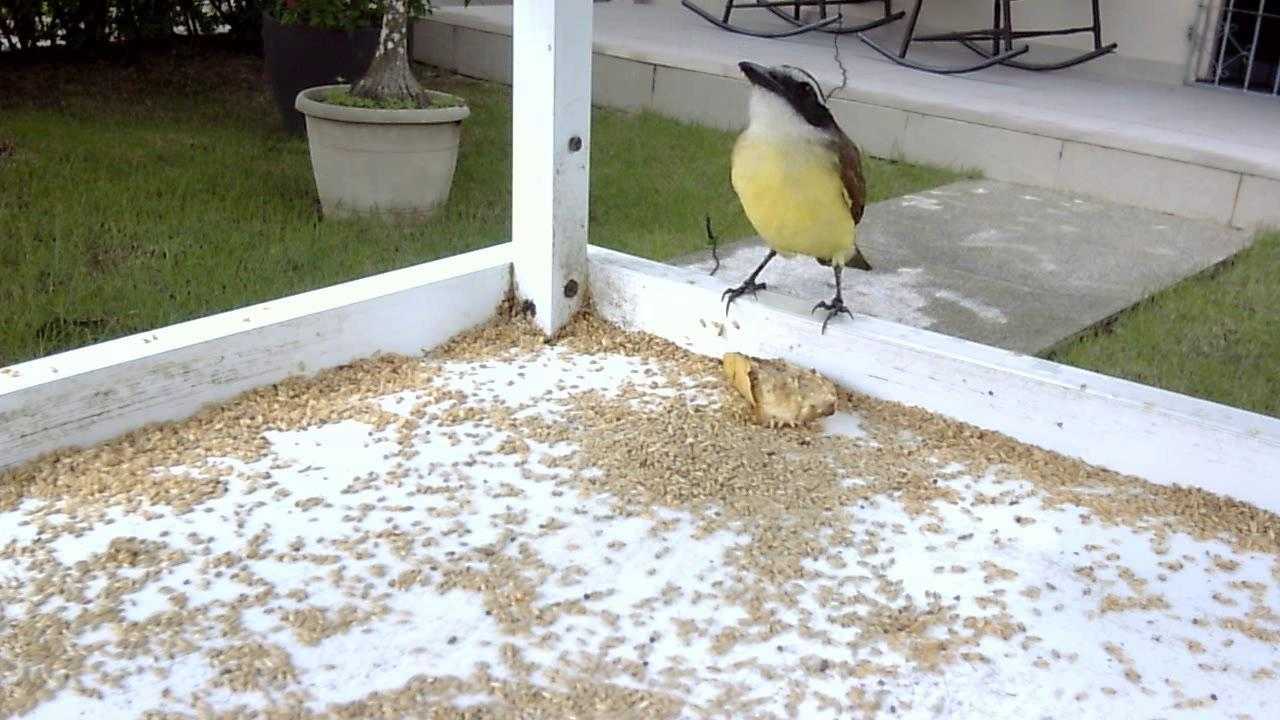bem_te_vi: (690, 47, 884, 348)
